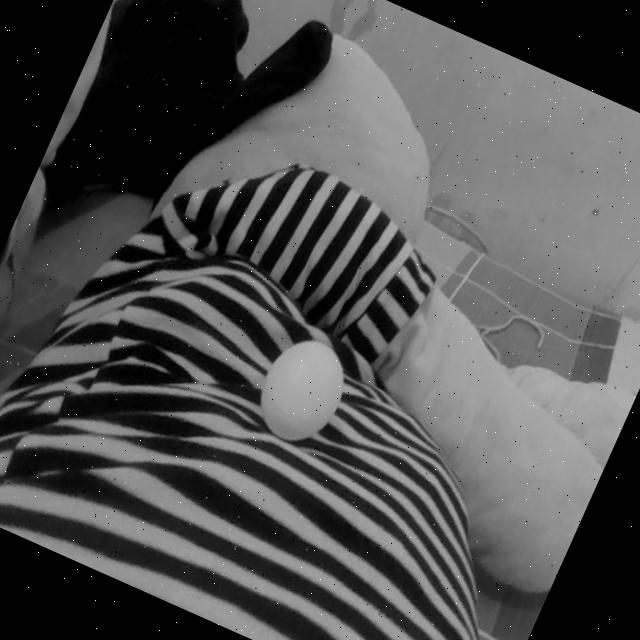ping-pong-ball: (250, 331, 355, 448)
